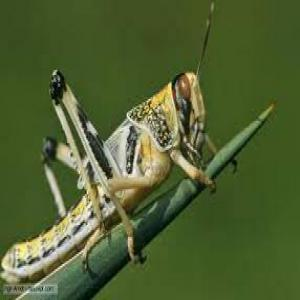locust: (11, 40, 227, 281)
